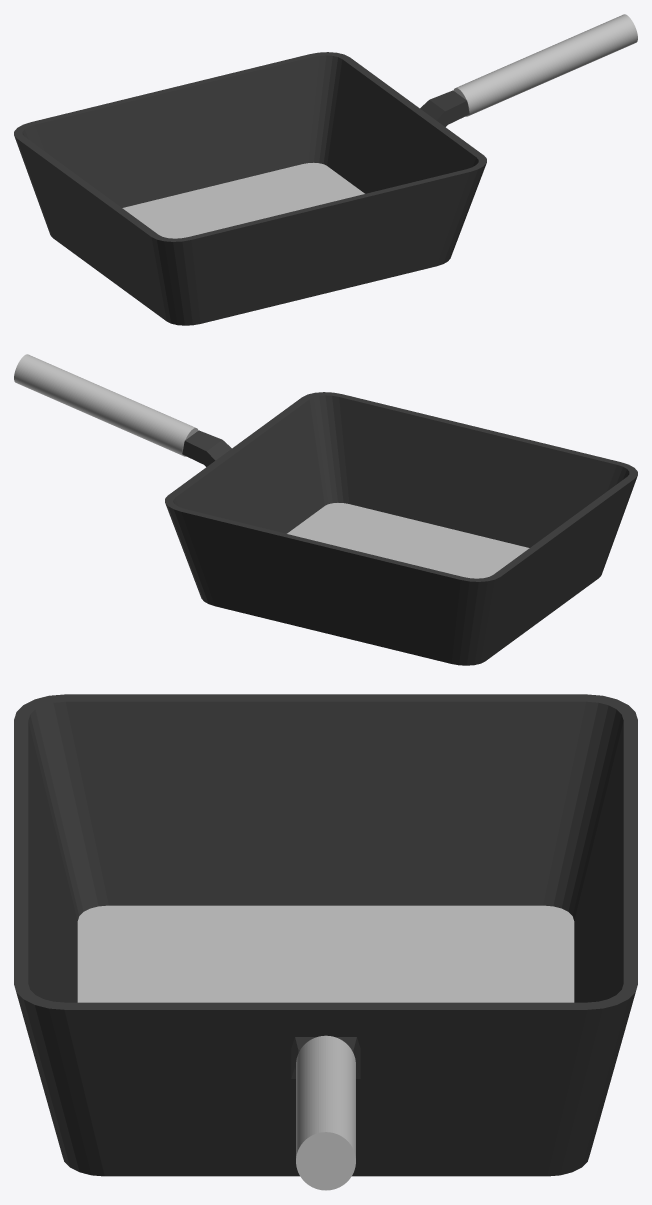
The model's file is Res01_Pan2.fbx.
The picture shows the model from 3 angles, top to bottom: view 1: azimuth 30°, elevation 25°; view 2: azimuth 150°, elevation 25°; view 3: azimuth 270°, elevation 25°; orthographic projection. The views are drawn at different scales.
Parts seen in each view (by area): view 1: Res01_Pan2; view 2: Res01_Pan2; view 3: Res01_Pan2.
Part boxes in pixels (left/top/right/bottom): Res01_Pan2: left=14, top=14, right=637, bottom=325; Res01_Pan2: left=14, top=354, right=637, bottom=665; Res01_Pan2: left=14, top=694, right=637, bottom=1190.
Bounding box in the file's own units: 117 × 28.22 × 59.57.
